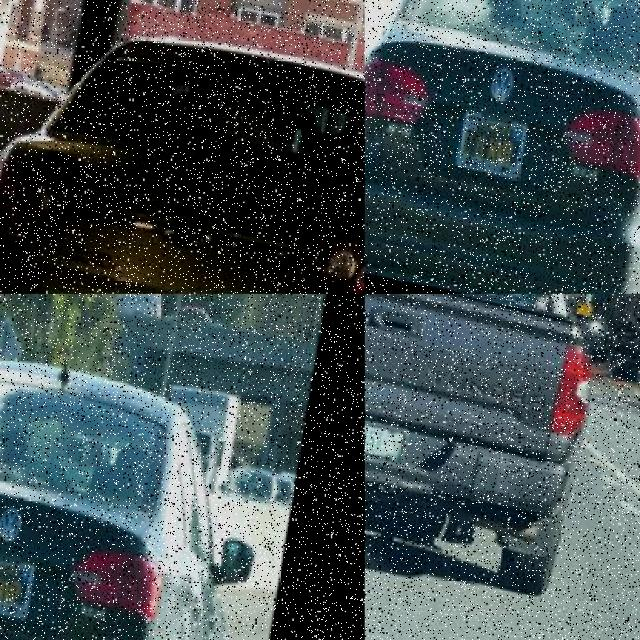licenseplate: (451, 105, 527, 177), (0, 543, 37, 617), (365, 419, 407, 464)
